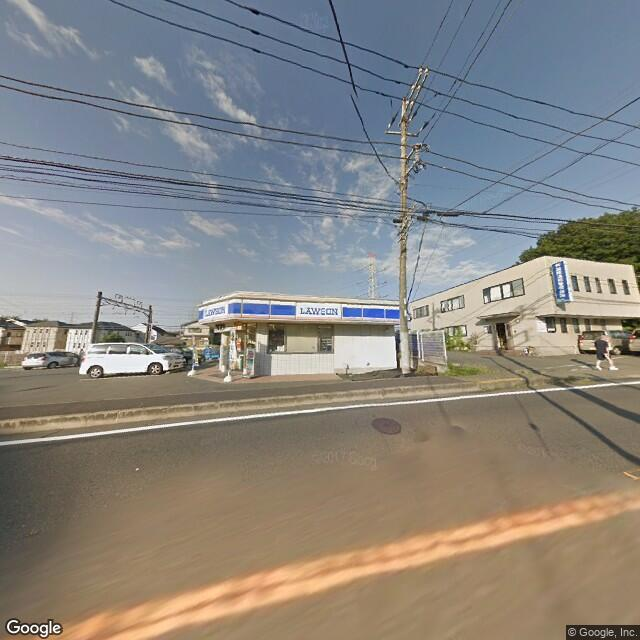lawson: (201, 291, 407, 326)
